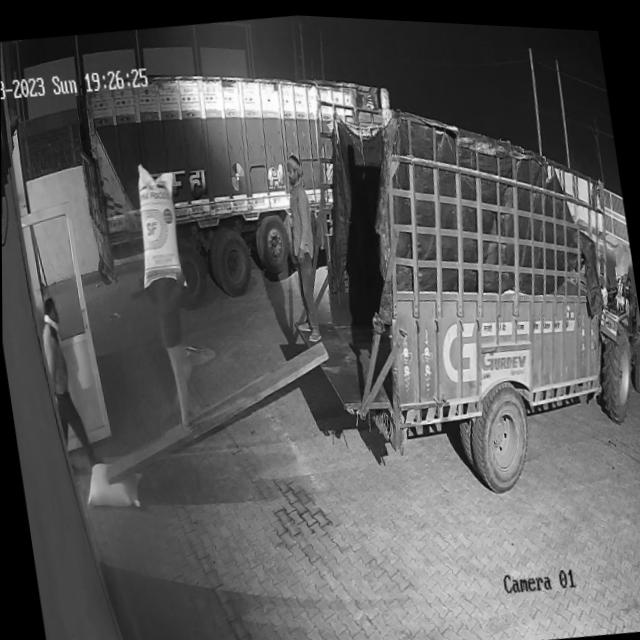sack: (126, 158, 189, 291), (81, 456, 144, 512)
